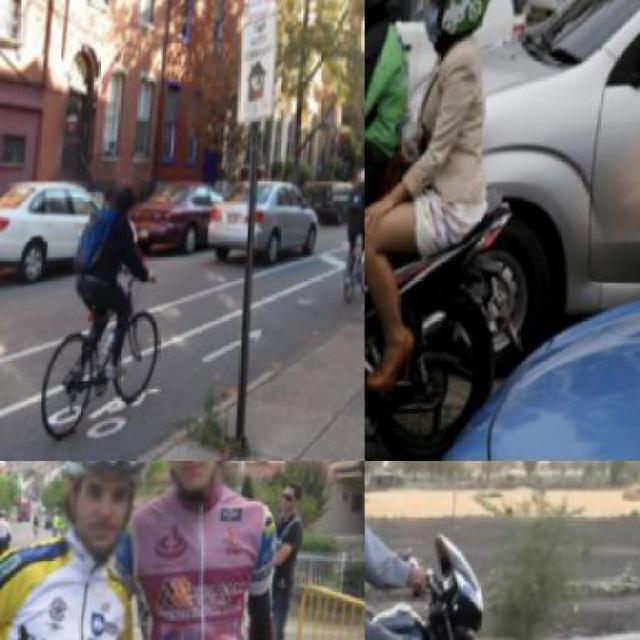With Helmet: (60, 460, 157, 563), (406, 0, 500, 60), (144, 460, 244, 503), (112, 173, 148, 215), (355, 160, 363, 192)
